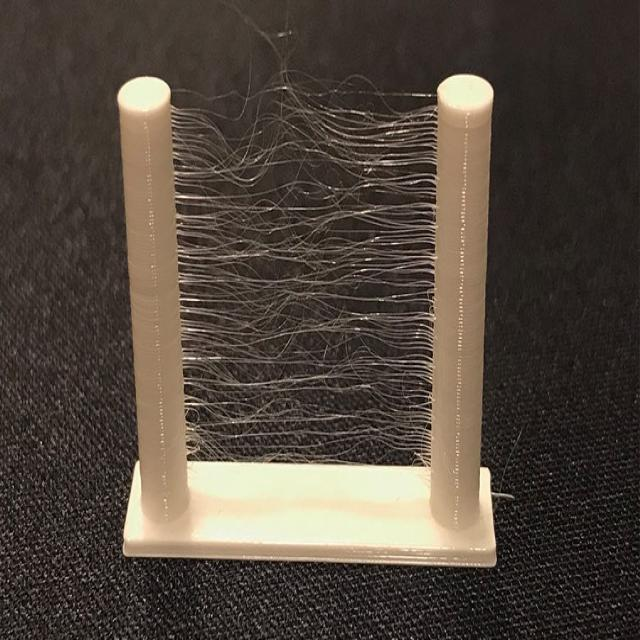Stringing: (174, 5, 437, 476)
